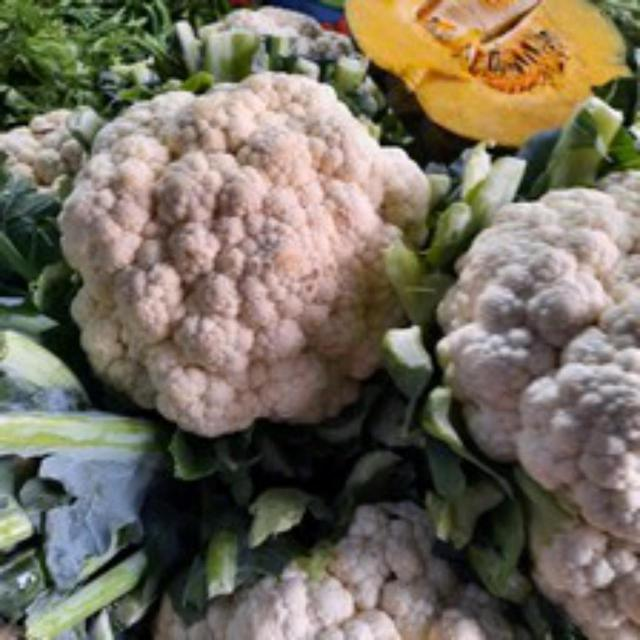cauliflower: (41, 67, 432, 442)
